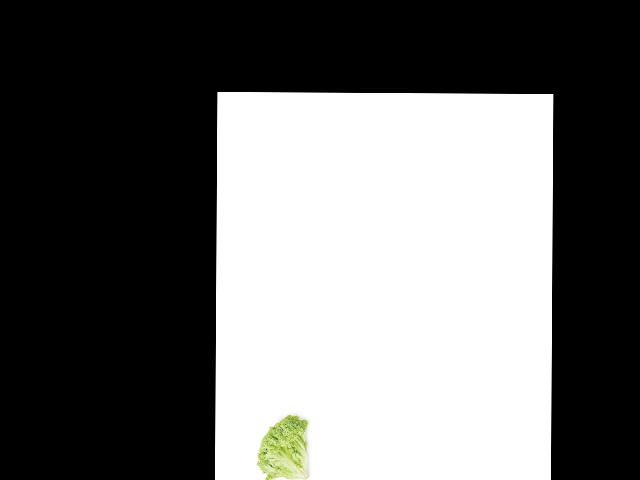lettuce: (253, 411, 315, 480)
